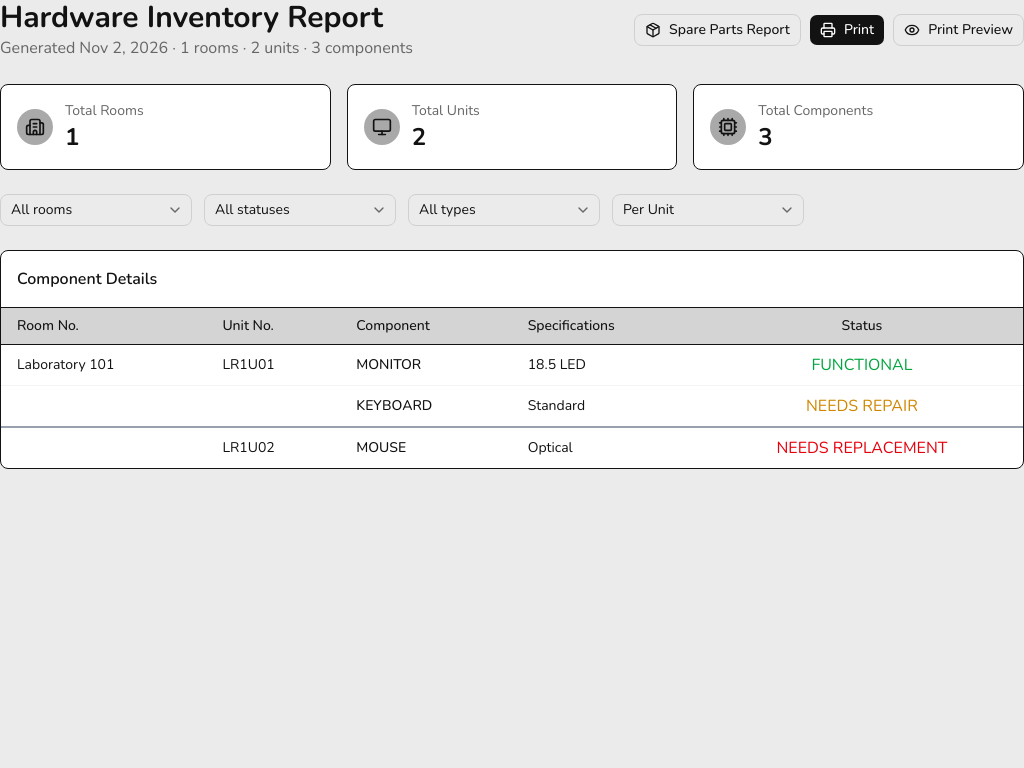
HardwareReport › print preview dialog › opens the dialog with the hardware report letterhead layout
What coordinates should you click on to do the following:
click the button "Print Preview"
I would click on:
 (959, 30)
Its box is [893, 14, 1023, 46].
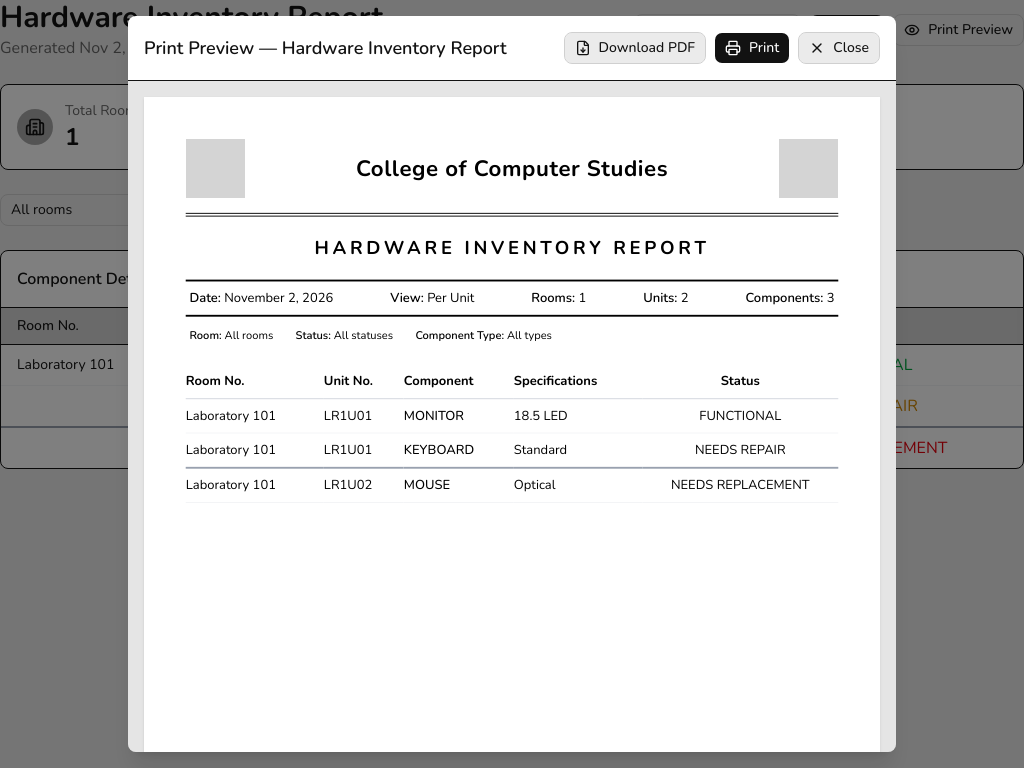
Now the heading "HARDWARE INVENTORY REPORT" is shown, box [314, 235, 710, 260]
Now the heading "College of Computer Studies" is shown, box [356, 154, 668, 183]
Now the button with aria-label "as pdf" is shown, box [564, 32, 706, 64]
